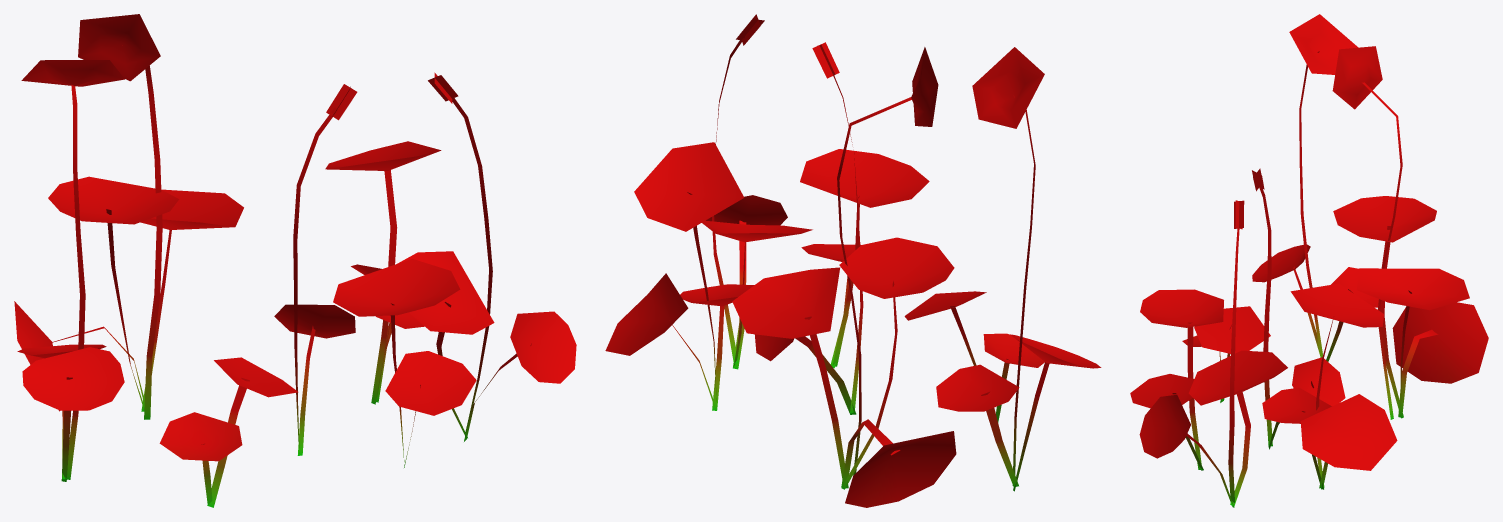
Rendered from Var14_LOD4.fbx.
The picture shows the model from 3 angles, left to right: view 1: azimuth 30°, elevation 25°; view 2: azimuth 150°, elevation 25°; view 3: azimuth 270°, elevation 25°; orthographic projection. The views are drawn at different scales.
Visible parts, largest first — view 1: _fzkj_Var14_LOD4; view 2: _fzkj_Var14_LOD4; view 3: _fzkj_Var14_LOD4.
Boxes of the visible parts, <box> form: _fzkj_Var14_LOD4: <box>14,14,576,507</box>; _fzkj_Var14_LOD4: <box>605,14,1101,507</box>; _fzkj_Var14_LOD4: <box>1130,14,1488,507</box>.
Bounding box in the file's own units: 25.87 × 22.89 × 20.88.
